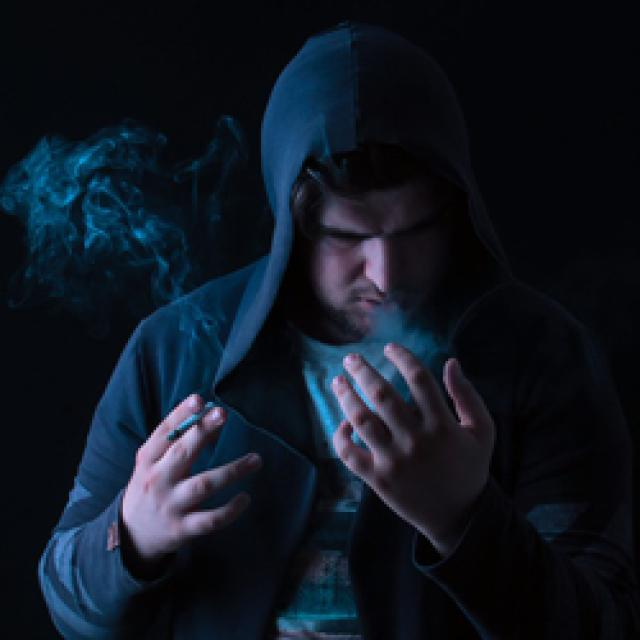Smooking: (159, 393, 223, 447)
